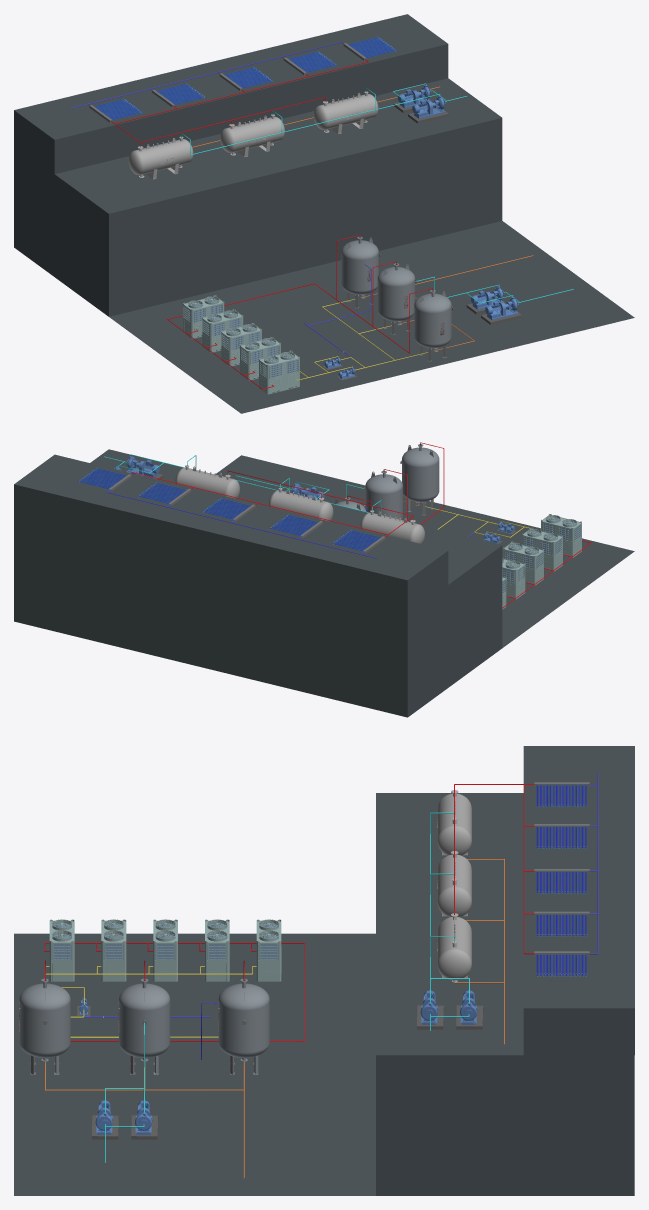
3 renders of one model, top to bottom at view 1: azimuth 30°, elevation 25°; view 2: azimuth 150°, elevation 25°; view 3: azimuth 270°, elevation 25°, orthographic. The views are drawn at different scales.
Parts seen in each view (by area): view 1: 立方体, 平面, 立方体.001, 储水罐-2, 储水罐-1, 储水罐-3, 卧式水罐-1, 卧式水罐-3, 卧式水罐-2, 空气源热泵-1, 空气源热泵-5, 空气源热泵-4 (+12 smaller); view 2: 立方体, 立方体.001, 平面, 储水罐-1, 储水罐-2, 卧式水罐-2, 卧式水罐-1, 卧式水罐-3, 空气源热泵-3, 空气源热泵-1, 空气源热泵-2, 空气源热泵-4 (+7 smaller); view 3: 平面, 立方体, 立方体.001, 储水罐-3, 储水罐-1, 储水罐-2, 卧式水罐-3, 卧式水罐-2, 卧式水罐-1, 空气源热泵-2, 空气源热泵-1, 空气源热泵-5 (+11 smaller).
Boxes of the visible parts, bbox=[...] form: 立方体: bbox=[14, 78, 502, 316]; 平面: bbox=[109, 221, 634, 413]; 立方体.001: bbox=[14, 14, 448, 173]; 储水罐-2: bbox=[377, 263, 416, 335]; 储水罐-1: bbox=[414, 290, 453, 361]; 储水罐-3: bbox=[341, 236, 380, 308]; 卧式水罐-1: bbox=[128, 136, 193, 179]; 卧式水罐-3: bbox=[313, 91, 378, 134]; 卧式水罐-2: bbox=[220, 114, 284, 156]; 空气源热泵-1: bbox=[259, 350, 299, 394]; 空气源热泵-5: bbox=[183, 295, 224, 338]; 空气源热泵-4: bbox=[202, 309, 243, 352]; 立方体: bbox=[14, 449, 502, 717]; 立方体.001: bbox=[14, 454, 448, 614]; 平面: bbox=[215, 455, 634, 648]; 储水罐-1: bbox=[400, 444, 439, 515]; 储水罐-2: bbox=[364, 470, 402, 519]; 卧式水罐-2: bbox=[268, 488, 333, 521]; 卧式水罐-1: bbox=[360, 510, 424, 543]; 卧式水罐-3: bbox=[175, 465, 239, 498]; 空气源热泵-3: bbox=[503, 541, 543, 585]; 空气源热泵-1: bbox=[541, 514, 581, 557]; 空气源热泵-2: bbox=[522, 527, 562, 571]; 空气源热泵-4: bbox=[502, 558, 525, 599]; 平面: bbox=[14, 933, 375, 1195]; 立方体: bbox=[376, 793, 634, 1195]; 立方体.001: bbox=[523, 746, 634, 1055]; 储水罐-3: bbox=[218, 978, 269, 1074]; 储水罐-1: bbox=[19, 978, 70, 1074]; 储水罐-2: bbox=[118, 978, 170, 1074]; 卧式水罐-3: bbox=[437, 913, 471, 982]; 卧式水罐-2: bbox=[437, 851, 471, 917]; 卧式水罐-1: bbox=[437, 790, 471, 855]; 空气源热泵-2: bbox=[101, 919, 126, 981]; 空气源热泵-1: bbox=[49, 919, 74, 981]; 空气源热泵-5: bbox=[256, 919, 281, 981].
Bounding box in the file's own units: 24 × 8.13 × 24.01.
